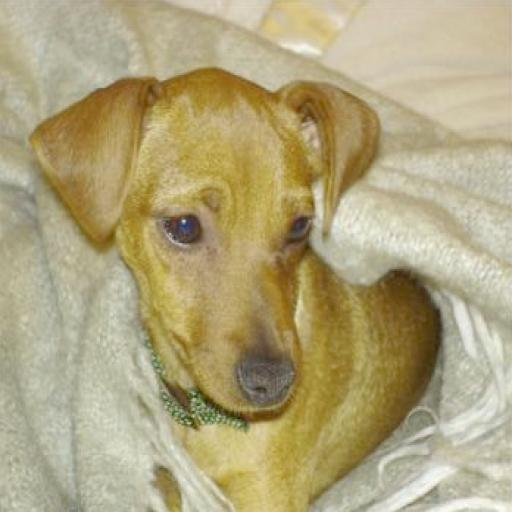dog_face: (37, 59, 375, 420)
